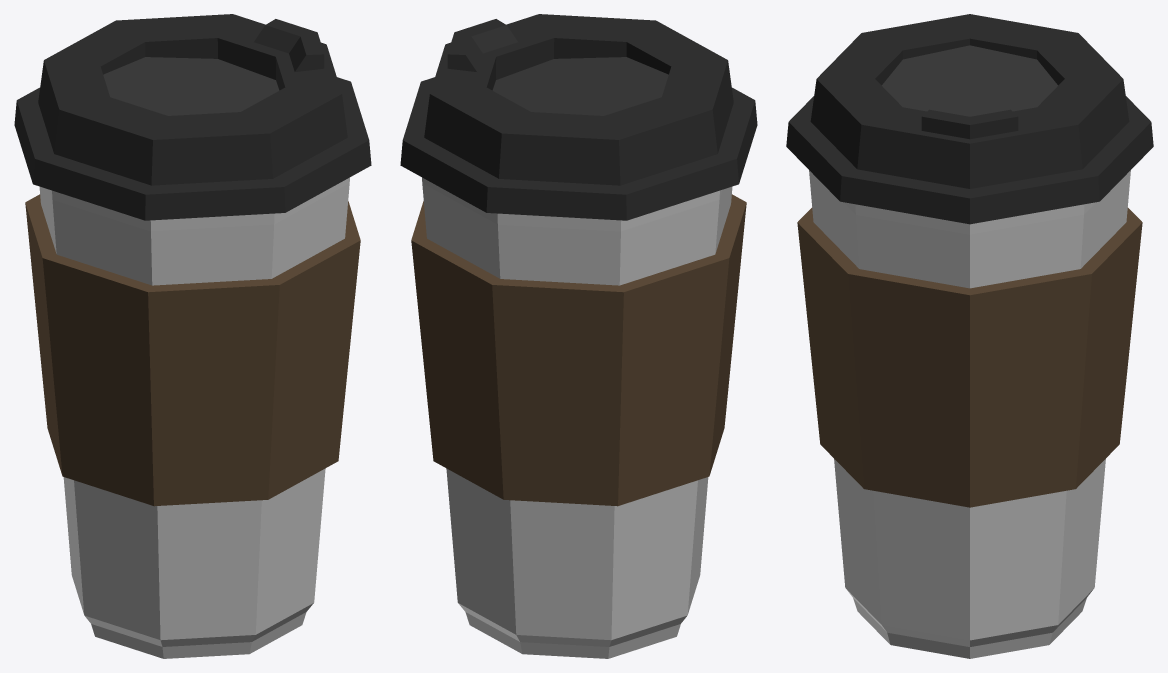
The model's file is coffee_cup_2.obj.
3 views of the same model, side by side, from view 1: azimuth 30°, elevation 25°; view 2: azimuth 150°, elevation 25°; view 3: azimuth 270°, elevation 25° (orthographic).
Visible parts, largest first — view 1: coffee_cup_2; view 2: coffee_cup_2; view 3: coffee_cup_2.
Part boxes in pixels (x1,y1,x2,y2): coffee_cup_2: (14,14,371,658); coffee_cup_2: (400,14,757,658); coffee_cup_2: (786,14,1153,658).
Bounding box in the file's own units: 0.1551 × 0.2547 × 0.1551.
